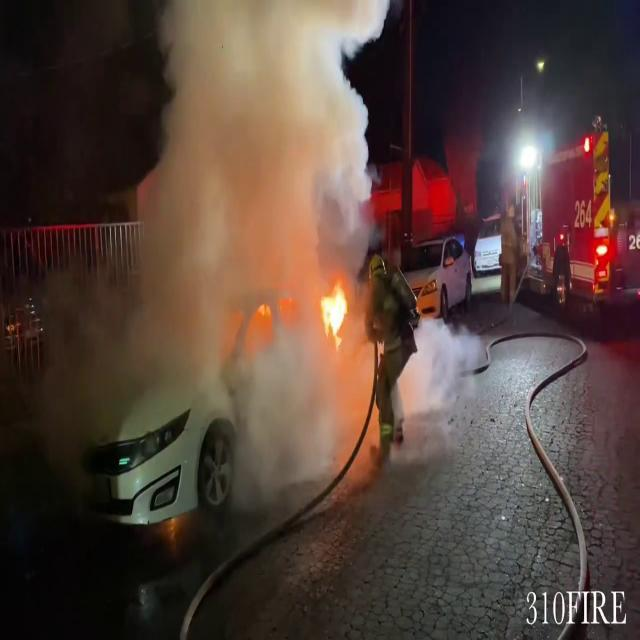Fire: (318, 277, 352, 347)
Smoke: (39, 0, 380, 516)
